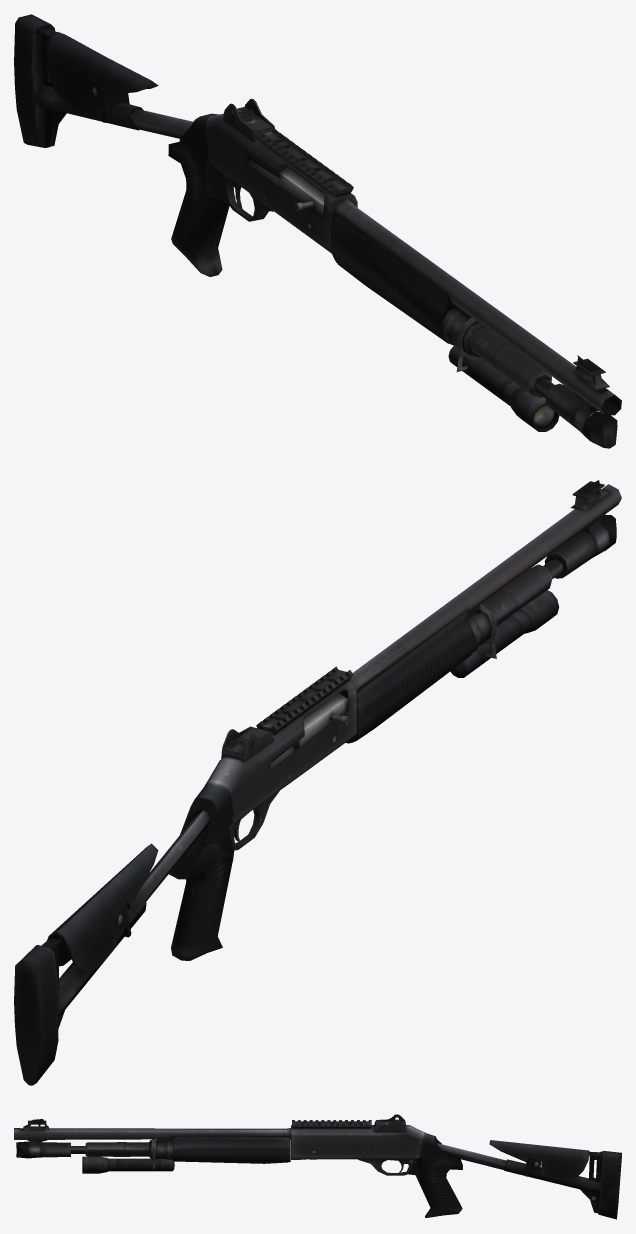
Rendered from l4d1-w-autoshot_m4super.glb.
3 renders of one model, top to bottom at view 1: azimuth 30°, elevation 25°; view 2: azimuth 150°, elevation 25°; view 3: azimuth 270°, elevation 25°, orthographic. The views are drawn at different scales.
Bounding box in the file's own units: 1.8 × 7.4 × 39.77.
1 material, 1 textured.
